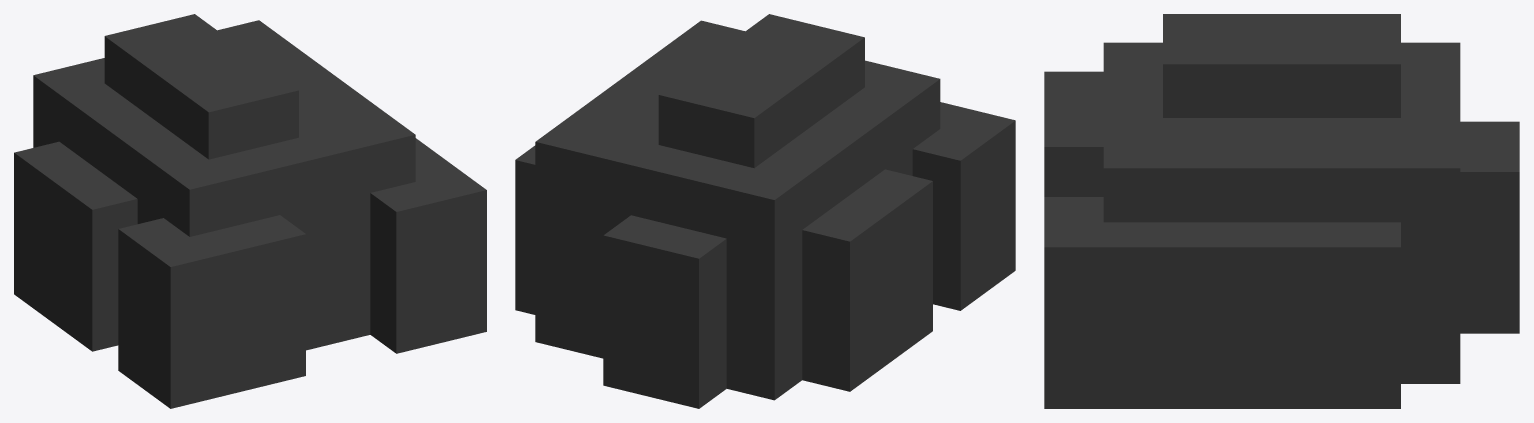
The model's file is Rock 03.obj.
3 renders of one model, left to right at view 1: azimuth 30°, elevation 25°; view 2: azimuth 150°, elevation 25°; view 3: azimuth 270°, elevation 25°, orthographic. The views are drawn at different scales.
Size of the model in its own units: 0.7 by 0.5 by 0.8.
Materials: 1 (1 with a texture image).
